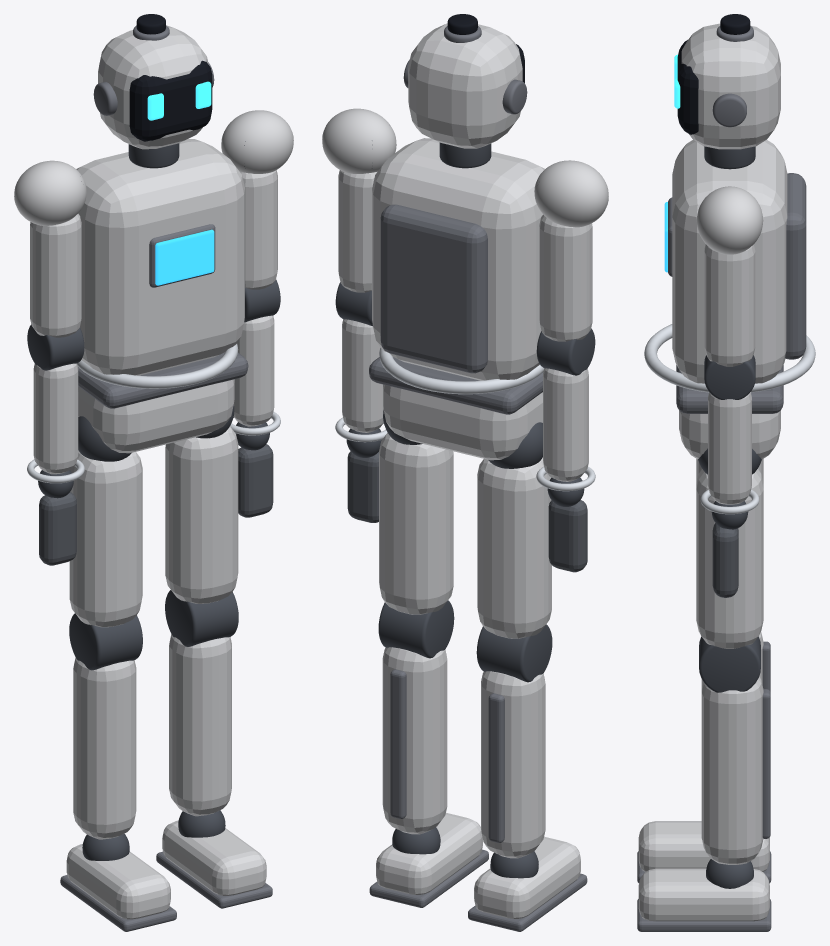
File: robot.glb
3 views of the same model, side by side, from view 1: azimuth 30°, elevation 25°; view 2: azimuth 150°, elevation 25°; view 3: azimuth 270°, elevation 25° (orthographic). The views are drawn at different scales.
Visible parts, largest first — view 1: torso, thigh_l, thigh_r, calf_r, calf_l, pelvis, head, upper_arm_r, foot_l, foot_r, forearm_r, visor (+22 smaller); view 2: torso, backpack, thigh_l, thigh_r, head, calf_l, calf_r, pelvis, upper_arm_r, forearm_r, foot_r, foot_l (+23 smaller); view 3: torso, calf_l, head, thigh_l, foot_l, upper_arm_l, forearm_l, backpack, shoulder_cap_l, foot_r, knee_disc_l, waist_ring (+14 smaller).
Boxes of the visible parts, x1=… form: torso: x1=76, y1=139, x2=244, y2=375; thigh_l: x1=165, y1=426, x2=238, y2=603; thigh_r: x1=69, y1=450, x2=142, y2=627; calf_r: x1=73, y1=657, x2=136, y2=839; calf_l: x1=169, y1=634, x2=231, y2=816; pelvis: x1=78, y1=379, x2=234, y2=453; head: x1=98, y1=25, x2=208, y2=149; upper_arm_r: x1=30, y1=213, x2=81, y2=337; foot_l: x1=162, y1=820, x2=266, y2=895; foot_r: x1=66, y1=844, x2=170, y2=919; forearm_r: x1=33, y1=363, x2=78, y2=474; visor: x1=129, y1=60, x2=212, y2=141; torso: x1=372, y1=138, x2=544, y2=380; backpack: x1=380, y1=204, x2=487, y2=373; thigh_l: x1=379, y1=433, x2=453, y2=614; thigh_r: x1=477, y1=457, x2=551, y2=638; head: x1=408, y1=23, x2=522, y2=148; calf_l: x1=382, y1=647, x2=447, y2=834; calf_r: x1=481, y1=671, x2=545, y2=858; pelvis: x1=383, y1=384, x2=542, y2=460; upper_arm_r: x1=539, y1=214, x2=592, y2=341; forearm_r: x1=543, y1=368, x2=588, y2=481; foot_r: x1=474, y1=836, x2=580, y2=918; foot_l: x1=376, y1=812, x2=482, y2=894; torso: x1=672, y1=139, x2=787, y2=383; calf_l: x1=701, y1=676, x2=763, y2=864; head: x1=681, y1=23, x2=780, y2=149; thigh_l: x1=696, y1=468, x2=763, y2=648; foot_l: x1=638, y1=868, x2=769, y2=921; upper_arm_l: x1=704, y1=244, x2=755, y2=366; forearm_l: x1=708, y1=392, x2=751, y2=504; backpack: x1=785, y1=173, x2=806, y2=359; shoulder_cap_l: x1=696, y1=186, x2=763, y2=254; foot_r: x1=638, y1=821, x2=769, y2=871; knee_disc_l: x1=699, y1=636, x2=760, y2=692; waist_ring: x1=644, y1=324, x2=815, y2=392.
Size of the model in its own units: 0.5966 by 1.8 by 0.333.
